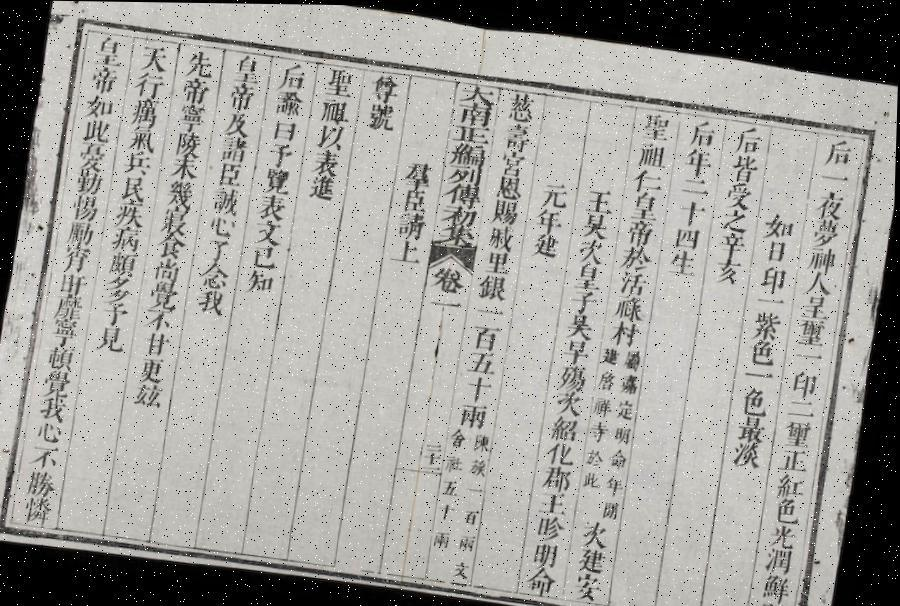c: (446, 138, 491, 169), (91, 32, 127, 68), (320, 64, 357, 99), (430, 262, 470, 294), (813, 184, 849, 218), (638, 108, 674, 142), (503, 88, 539, 122), (750, 306, 786, 340), (821, 134, 856, 168), (146, 278, 182, 311), (782, 414, 818, 447), (21, 494, 58, 526), (794, 314, 831, 346), (536, 177, 573, 209), (789, 364, 824, 397), (401, 157, 436, 190), (40, 367, 76, 399), (158, 204, 194, 236), (94, 322, 130, 354), (526, 562, 562, 594), (572, 568, 608, 600), (197, 258, 233, 290), (274, 60, 310, 92), (174, 101, 210, 133), (208, 184, 244, 216), (453, 100, 494, 128), (24, 466, 61, 497), (442, 180, 484, 207), (740, 381, 774, 414), (229, 52, 263, 85), (368, 70, 402, 103), (59, 242, 94, 274), (761, 568, 796, 600), (736, 410, 771, 442), (136, 41, 171, 73), (681, 144, 716, 176), (499, 120, 534, 152), (182, 48, 217, 80), (436, 221, 479, 247), (762, 208, 798, 239), (730, 437, 766, 468), (112, 197, 148, 228), (476, 271, 512, 302), (556, 360, 592, 391), (131, 69, 168, 99), (35, 393, 73, 422), (628, 188, 662, 220), (732, 122, 766, 154), (163, 178, 197, 210), (364, 100, 398, 132), (128, 94, 162, 126), (101, 273, 136, 304), (86, 63, 121, 94), (809, 215, 844, 246), (666, 245, 701, 276), (469, 321, 504, 352), (394, 209, 429, 240), (804, 242, 840, 272), (608, 316, 644, 346), (774, 468, 810, 498), (634, 138, 670, 168), (582, 183, 618, 213), (578, 209, 614, 239), (316, 96, 352, 126), (612, 291, 648, 321), (540, 462, 576, 492), (777, 443, 814, 472), (728, 150, 761, 182), (759, 260, 792, 292), (686, 116, 720, 147), (564, 309, 598, 340), (53, 292, 88, 322), (75, 140, 110, 170), (271, 88, 306, 118), (616, 266, 651, 296), (132, 380, 168, 409), (29, 441, 65, 470), (120, 148, 156, 177), (108, 224, 144, 253), (624, 216, 658, 246), (536, 510, 570, 540), (581, 516, 615, 546), (178, 75, 212, 105), (224, 82, 258, 112), (260, 166, 294, 196), (256, 191, 290, 221), (674, 194, 708, 224), (216, 134, 250, 164), (577, 543, 612, 572), (799, 290, 834, 319), (194, 286, 229, 315), (105, 249, 140, 278), (313, 121, 348, 150), (48, 318, 84, 346), (44, 343, 80, 371), (389, 237, 425, 265), (444, 162, 486, 186), (78, 116, 114, 144), (457, 400, 493, 428), (81, 91, 117, 119), (618, 242, 654, 270), (712, 254, 745, 284), (463, 372, 496, 402), (573, 260, 606, 290), (136, 355, 170, 384), (764, 543, 798, 572), (167, 152, 201, 181), (529, 230, 563, 259), (68, 192, 102, 221), (309, 148, 343, 177), (485, 222, 519, 251), (488, 196, 522, 225), (548, 412, 582, 441), (439, 202, 480, 226), (457, 80, 498, 104), (154, 232, 189, 260), (630, 165, 666, 192), (747, 336, 780, 365), (722, 179, 755, 208), (117, 173, 150, 202), (496, 147, 529, 176), (305, 173, 338, 202), (533, 205, 567, 233), (244, 266, 278, 294), (98, 298, 132, 326), (252, 218, 286, 246), (72, 167, 106, 195), (125, 124, 159, 152), (64, 218, 98, 246), (450, 122, 493, 144), (537, 487, 572, 514), (544, 437, 579, 464), (716, 228, 749, 256), (532, 538, 565, 566), (561, 336, 594, 364), (172, 129, 205, 157), (34, 417, 68, 444), (768, 520, 802, 547), (568, 286, 602, 313), (141, 329, 173, 357), (248, 242, 280, 270), (774, 494, 806, 522), (265, 140, 297, 168), (720, 204, 752, 232), (494, 172, 526, 200), (576, 235, 608, 263), (220, 110, 252, 138), (214, 160, 246, 188), (554, 387, 587, 414), (786, 392, 820, 418), (143, 306, 177, 332), (802, 268, 836, 294), (152, 255, 184, 282), (482, 248, 514, 275), (399, 187, 432, 213), (467, 348, 500, 374), (426, 293, 466, 314), (761, 235, 792, 262), (58, 270, 90, 296), (679, 172, 712, 196), (204, 235, 234, 261), (269, 117, 300, 142), (672, 222, 703, 247), (206, 214, 238, 238), (473, 301, 508, 321), (743, 362, 778, 382), (818, 166, 853, 185), (793, 344, 826, 364), (590, 392, 616, 416), (608, 444, 632, 468), (596, 366, 620, 390), (589, 416, 612, 441), (615, 395, 638, 419), (619, 370, 642, 394), (470, 453, 493, 476), (602, 496, 624, 519), (452, 556, 475, 578), (472, 430, 495, 452), (605, 472, 628, 494), (756, 291, 787, 307), (450, 425, 471, 448), (623, 346, 644, 369), (440, 498, 461, 521), (434, 527, 456, 548), (442, 476, 464, 497), (602, 343, 624, 364), (586, 444, 607, 465), (614, 422, 635, 443), (445, 452, 467, 472), (583, 467, 604, 487), (464, 504, 483, 526), (458, 531, 480, 550), (424, 448, 444, 465), (467, 480, 486, 496), (426, 437, 446, 452), (757, 597, 790, 606)
